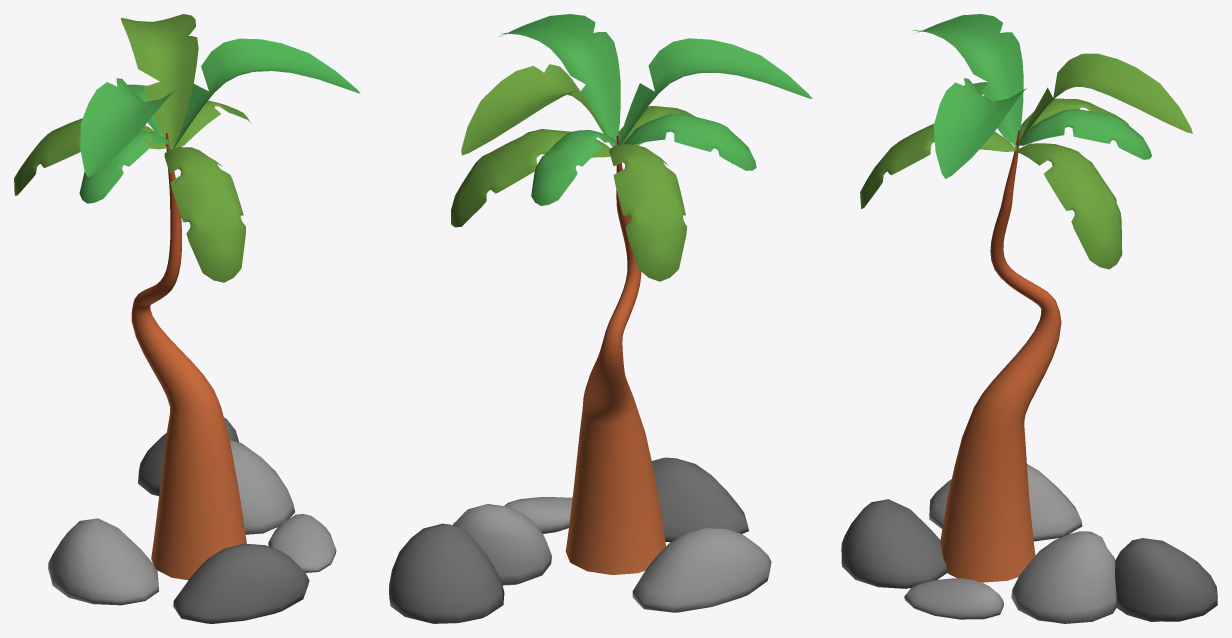
File: palm-tree-13.glb
3 renders of one model, left to right at view 1: azimuth 30°, elevation 25°; view 2: azimuth 150°, elevation 25°; view 3: azimuth 270°, elevation 25°, orthographic. The views are drawn at different scales.
Parts seen in each view (by area): view 1: palm tree 13; view 2: palm tree 13; view 3: palm tree 13.
Boxes of the visible parts, x1,y1,x2,y2 form: palm tree 13: [14, 14, 360, 623]; palm tree 13: [389, 14, 812, 623]; palm tree 13: [841, 14, 1217, 623].
Bounding box in the file's own units: 2.34 × 3.85 × 2.6.
1 material, 1 textured.
